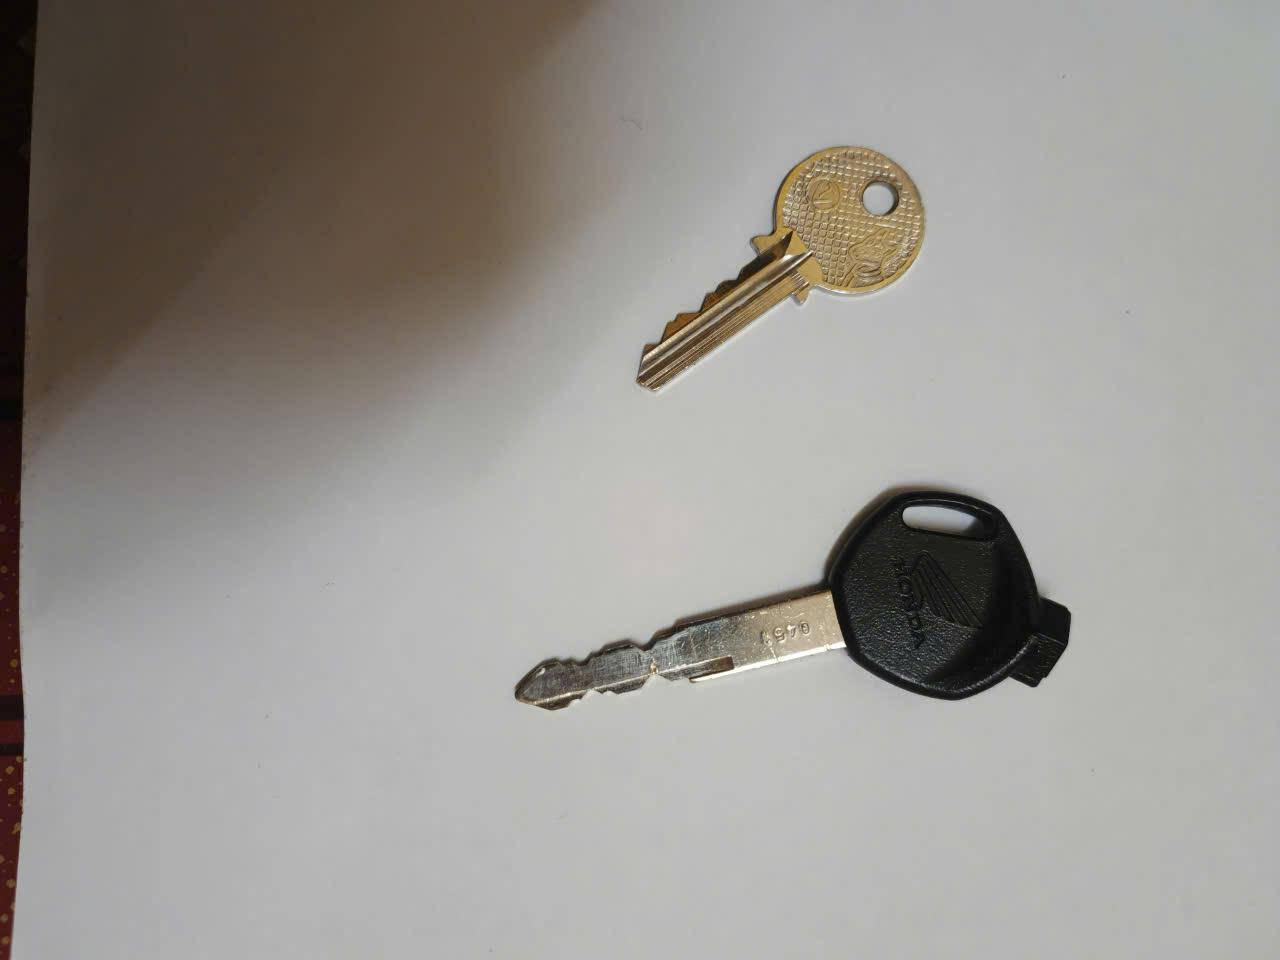Vo co: (516, 484, 1076, 716), (640, 146, 928, 394)
